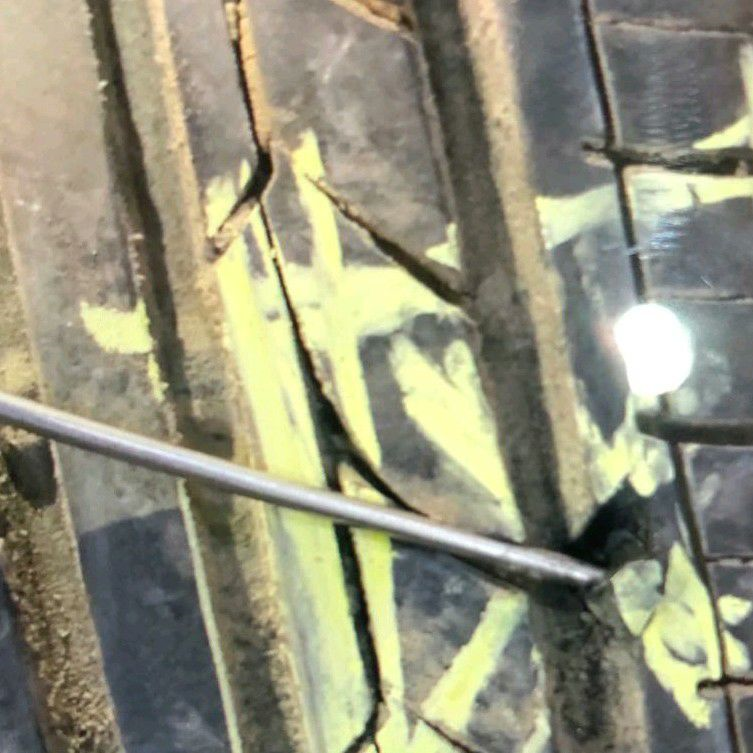tr: (534, 466, 678, 652)
